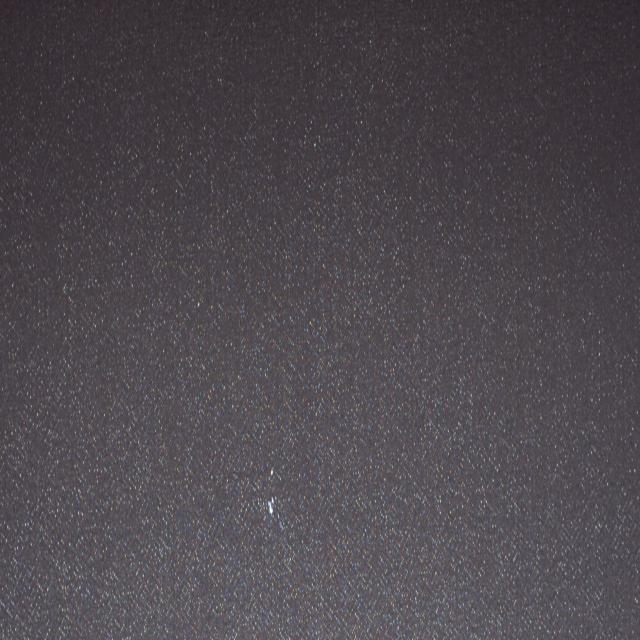Knot: (266, 497, 285, 532)
